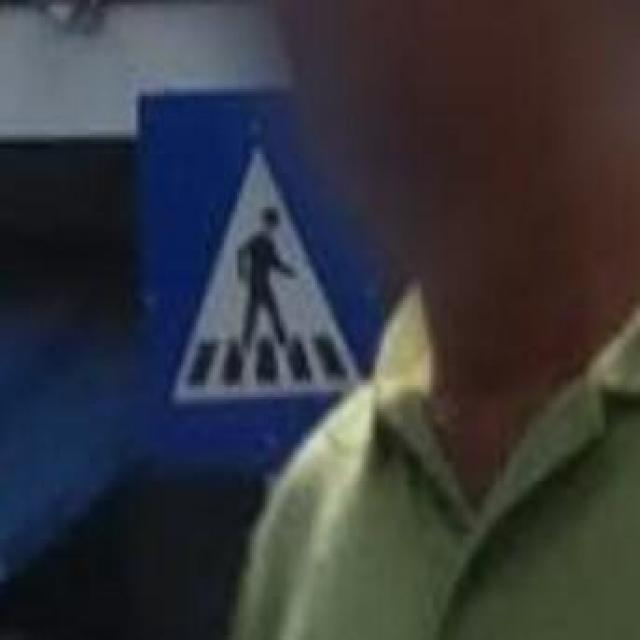traffic sign: (146, 99, 372, 448)
